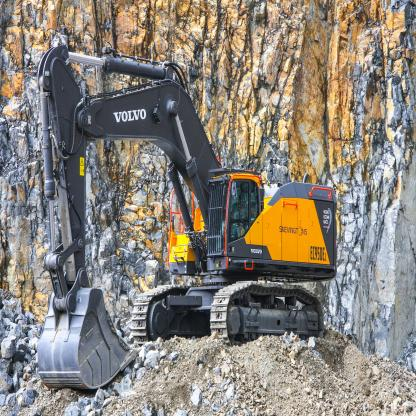excavator: (32, 40, 338, 384)
